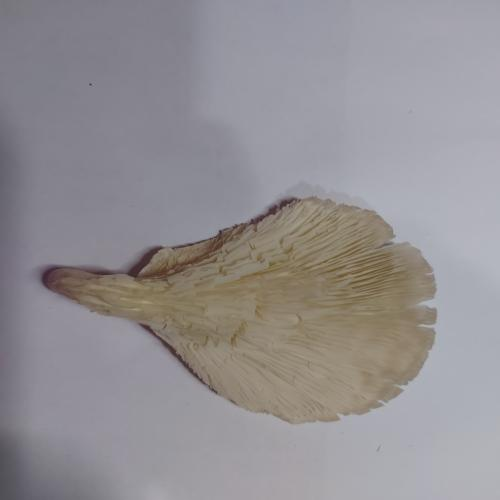Oyster Mushroom: (44, 194, 439, 425)
